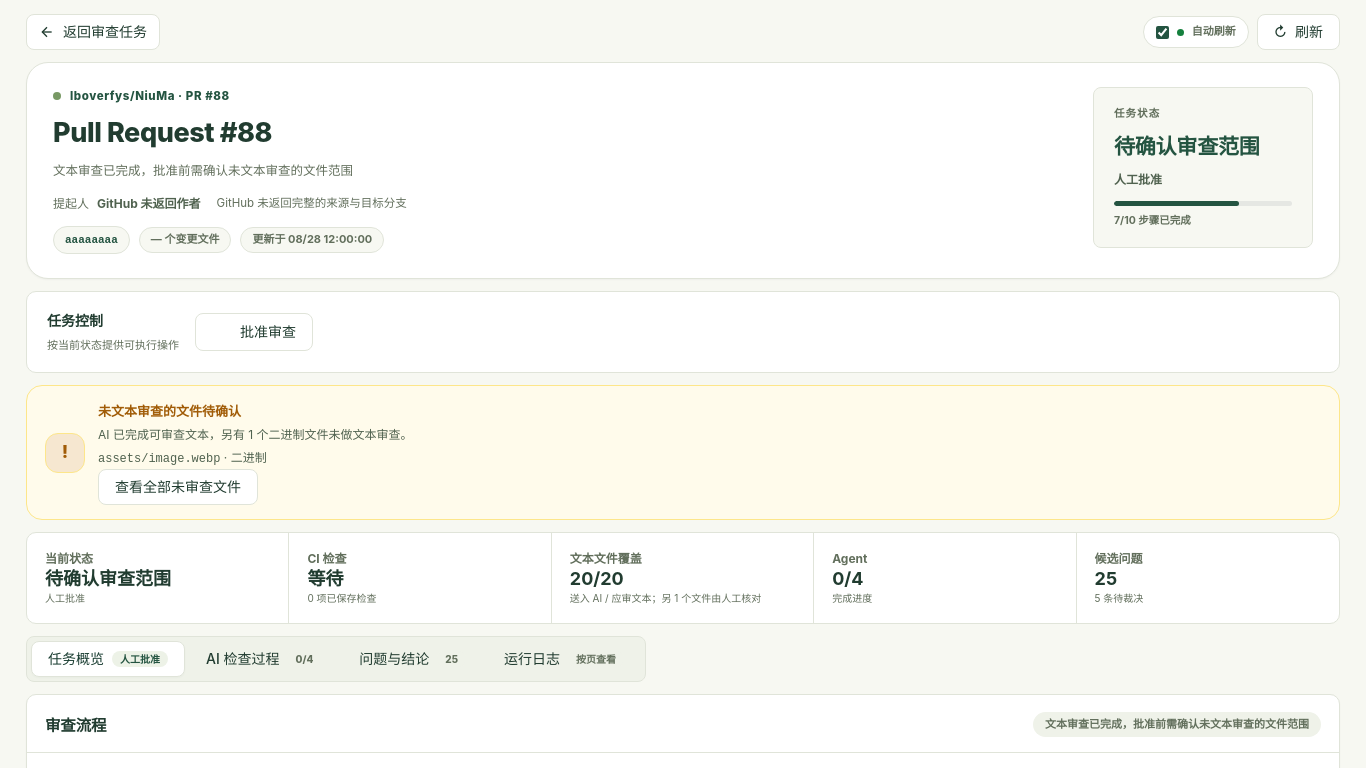
二进制文件需要显式确认后才能批准，并携带当前版本
Click the button "✓ 批准审查".
click(254, 332)  # box top-left (195, 313), bottom-right (313, 351)
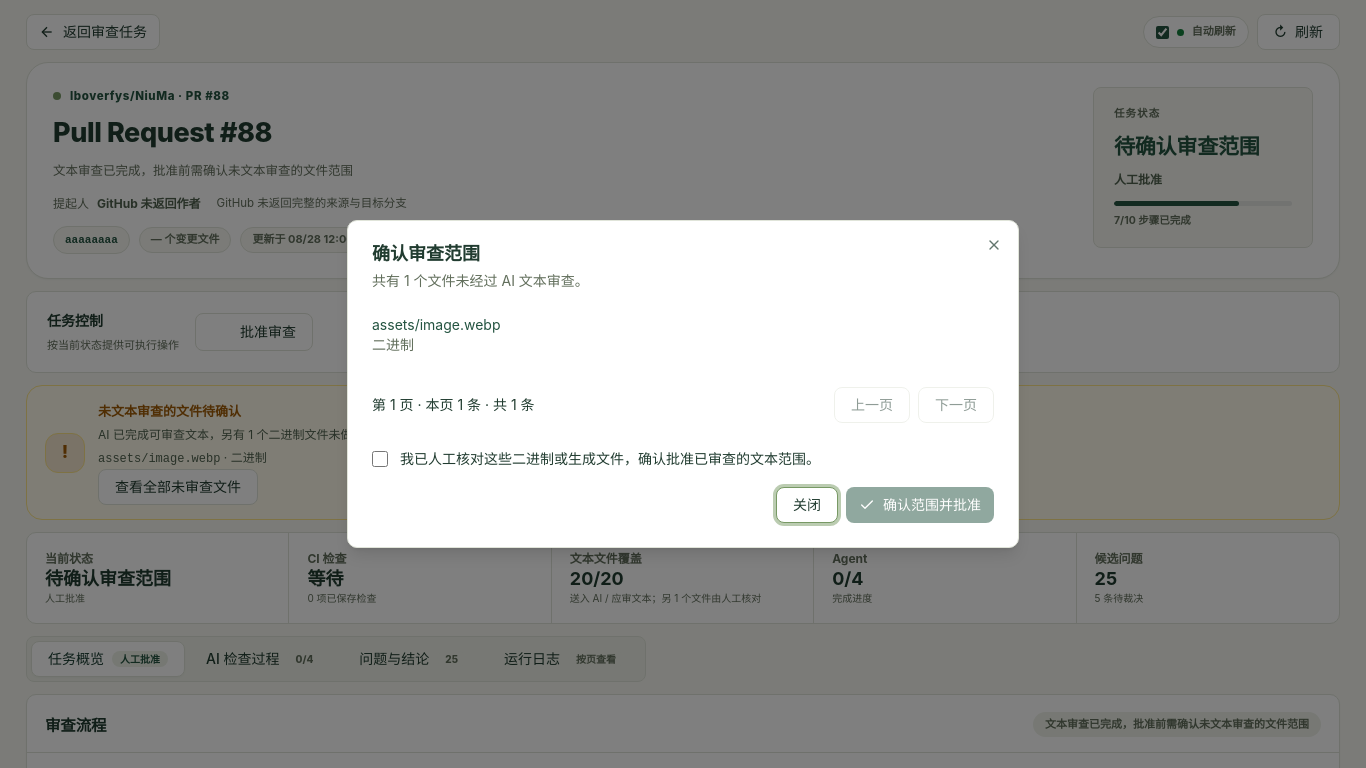
Result: the button "确认范围并批准" is disabled at top-left (846, 487), bottom-right (994, 523)
Result: the checkbox is not checked
Click the checkbox.
click(380, 459)  # box top-left (372, 451), bottom-right (388, 467)
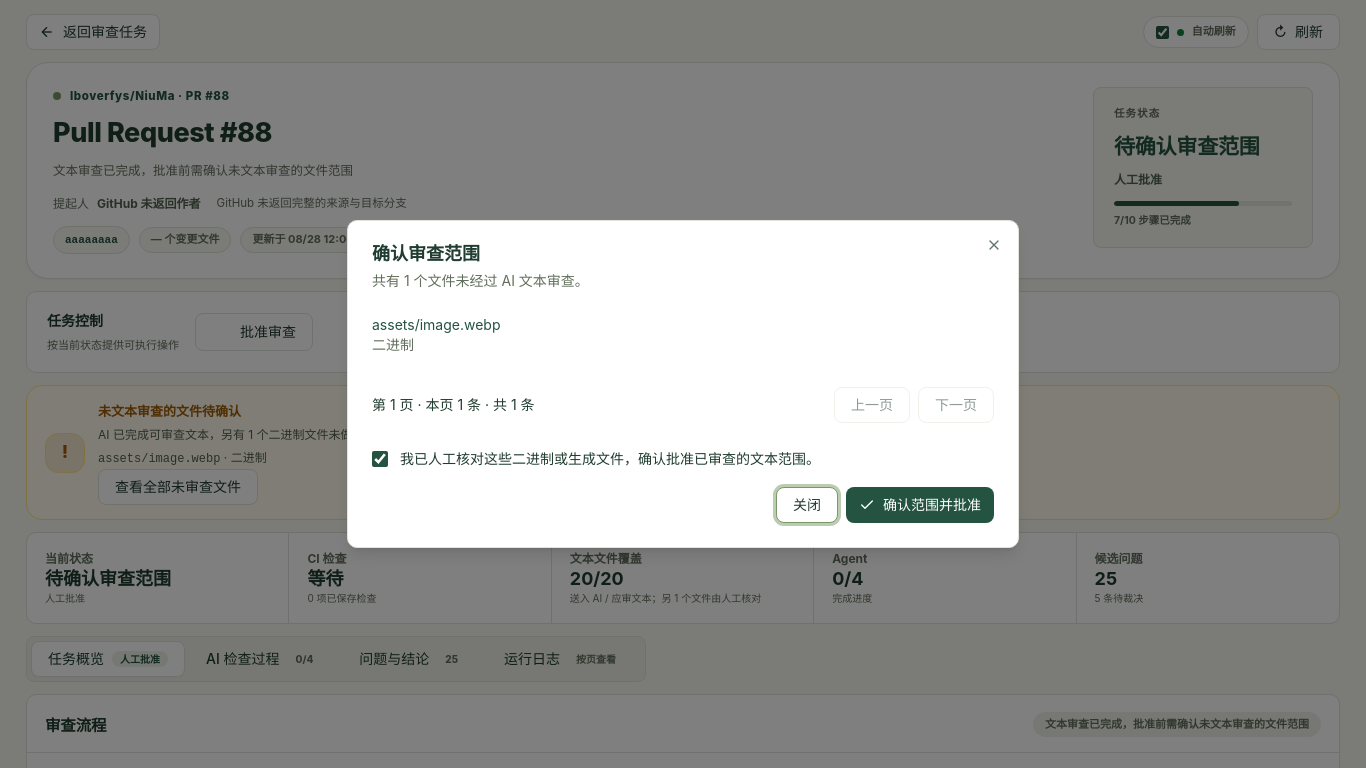
Click the button "确认范围并批准".
click(920, 505)  # box top-left (846, 487), bottom-right (994, 523)
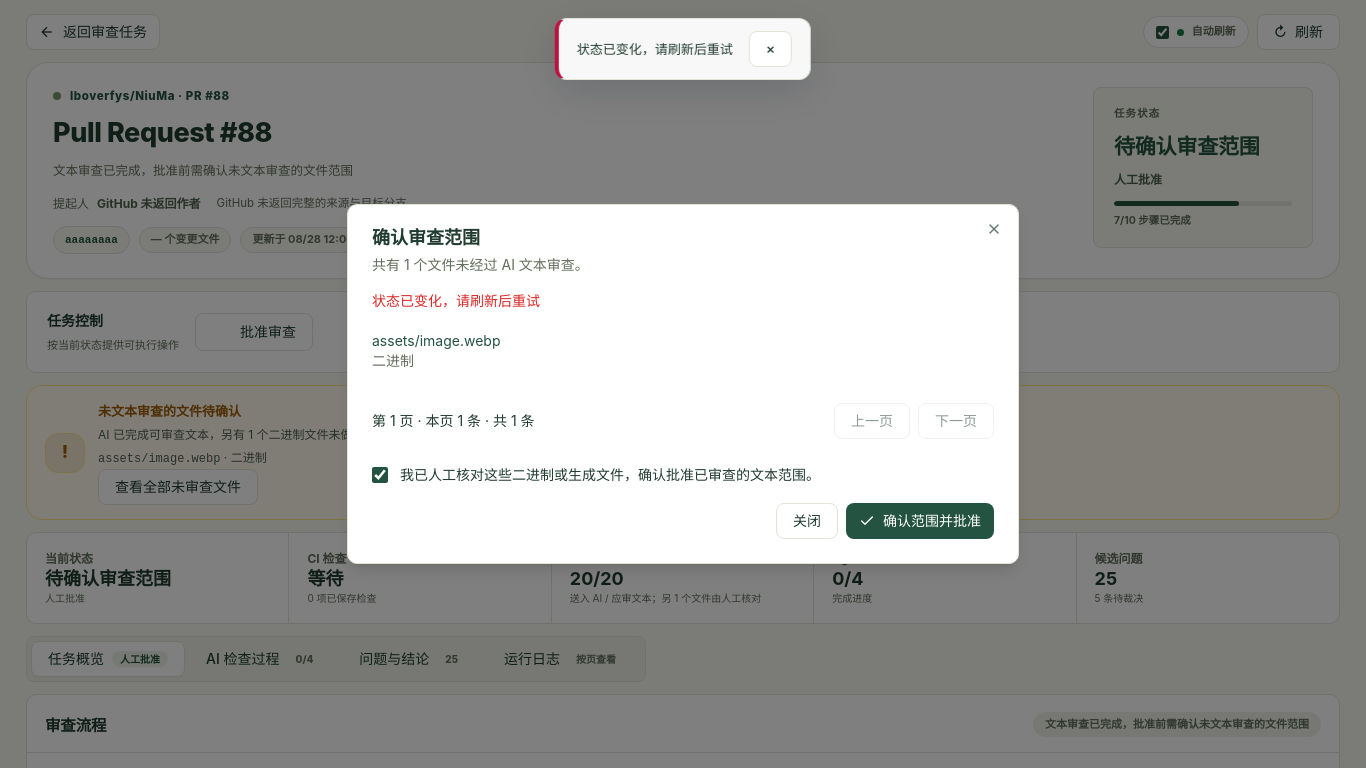
Result: the text "状态已变化，请刷新后重试" is shown at top-left (372, 292), bottom-right (540, 309)
